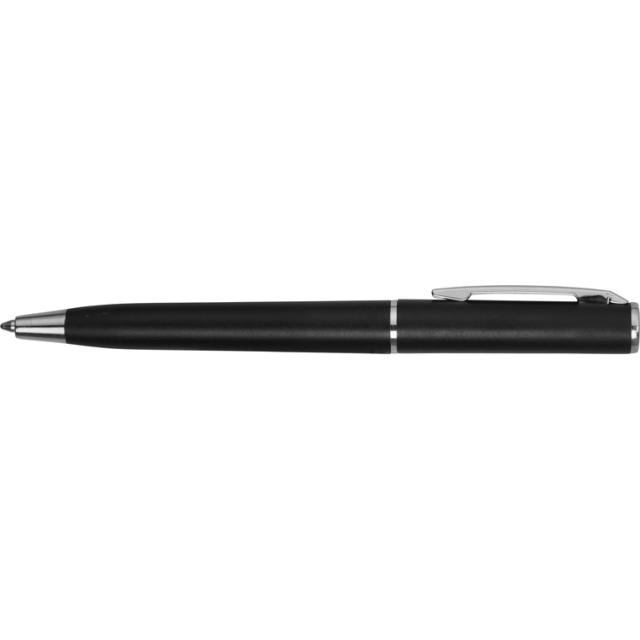pen: (0, 283, 640, 355)
